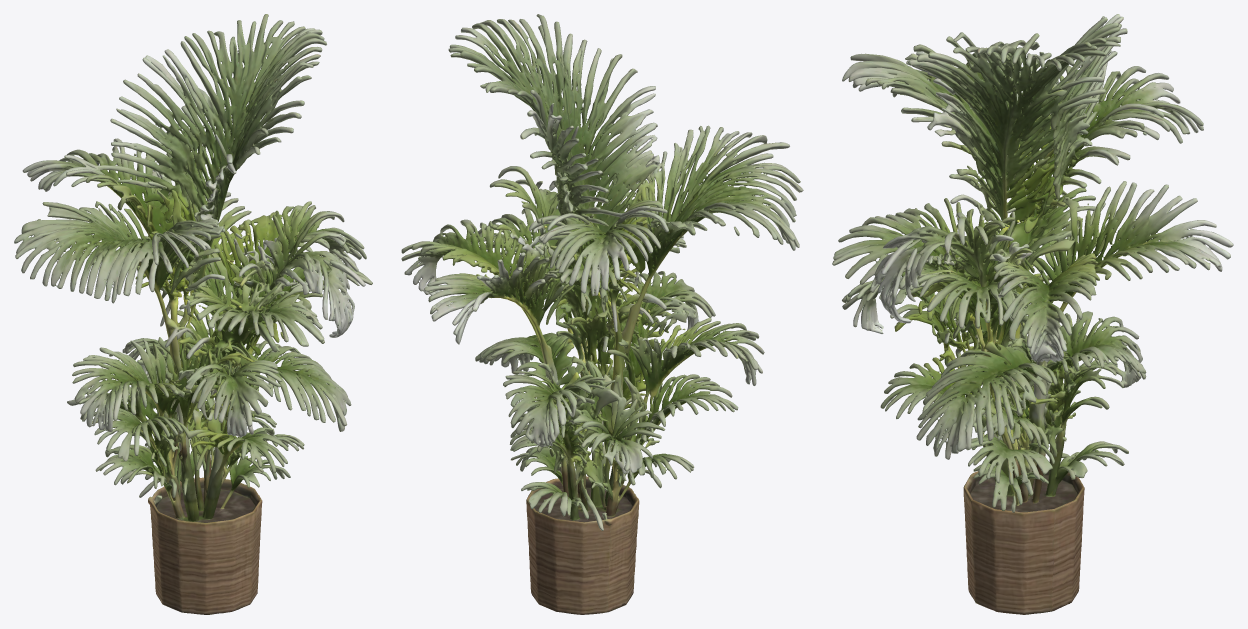
File: plant-final.glb
3 views of the same model, side by side, from view 1: azimuth 30°, elevation 25°; view 2: azimuth 150°, elevation 25°; view 3: azimuth 270°, elevation 25° (orthographic). The views are drawn at different scales.
Visible parts, largest first — view 1: geometry_0; view 2: geometry_0; view 3: geometry_0.
Boxes of the visible parts, x1,y1,x2,y2 form: geometry_0: [14, 14, 372, 614]; geometry_0: [401, 14, 803, 614]; geometry_0: [832, 14, 1233, 614].
Bounding box in the file's own units: 0.7 × 1 × 0.6099.
Materials: 1 (1 with a texture image).
